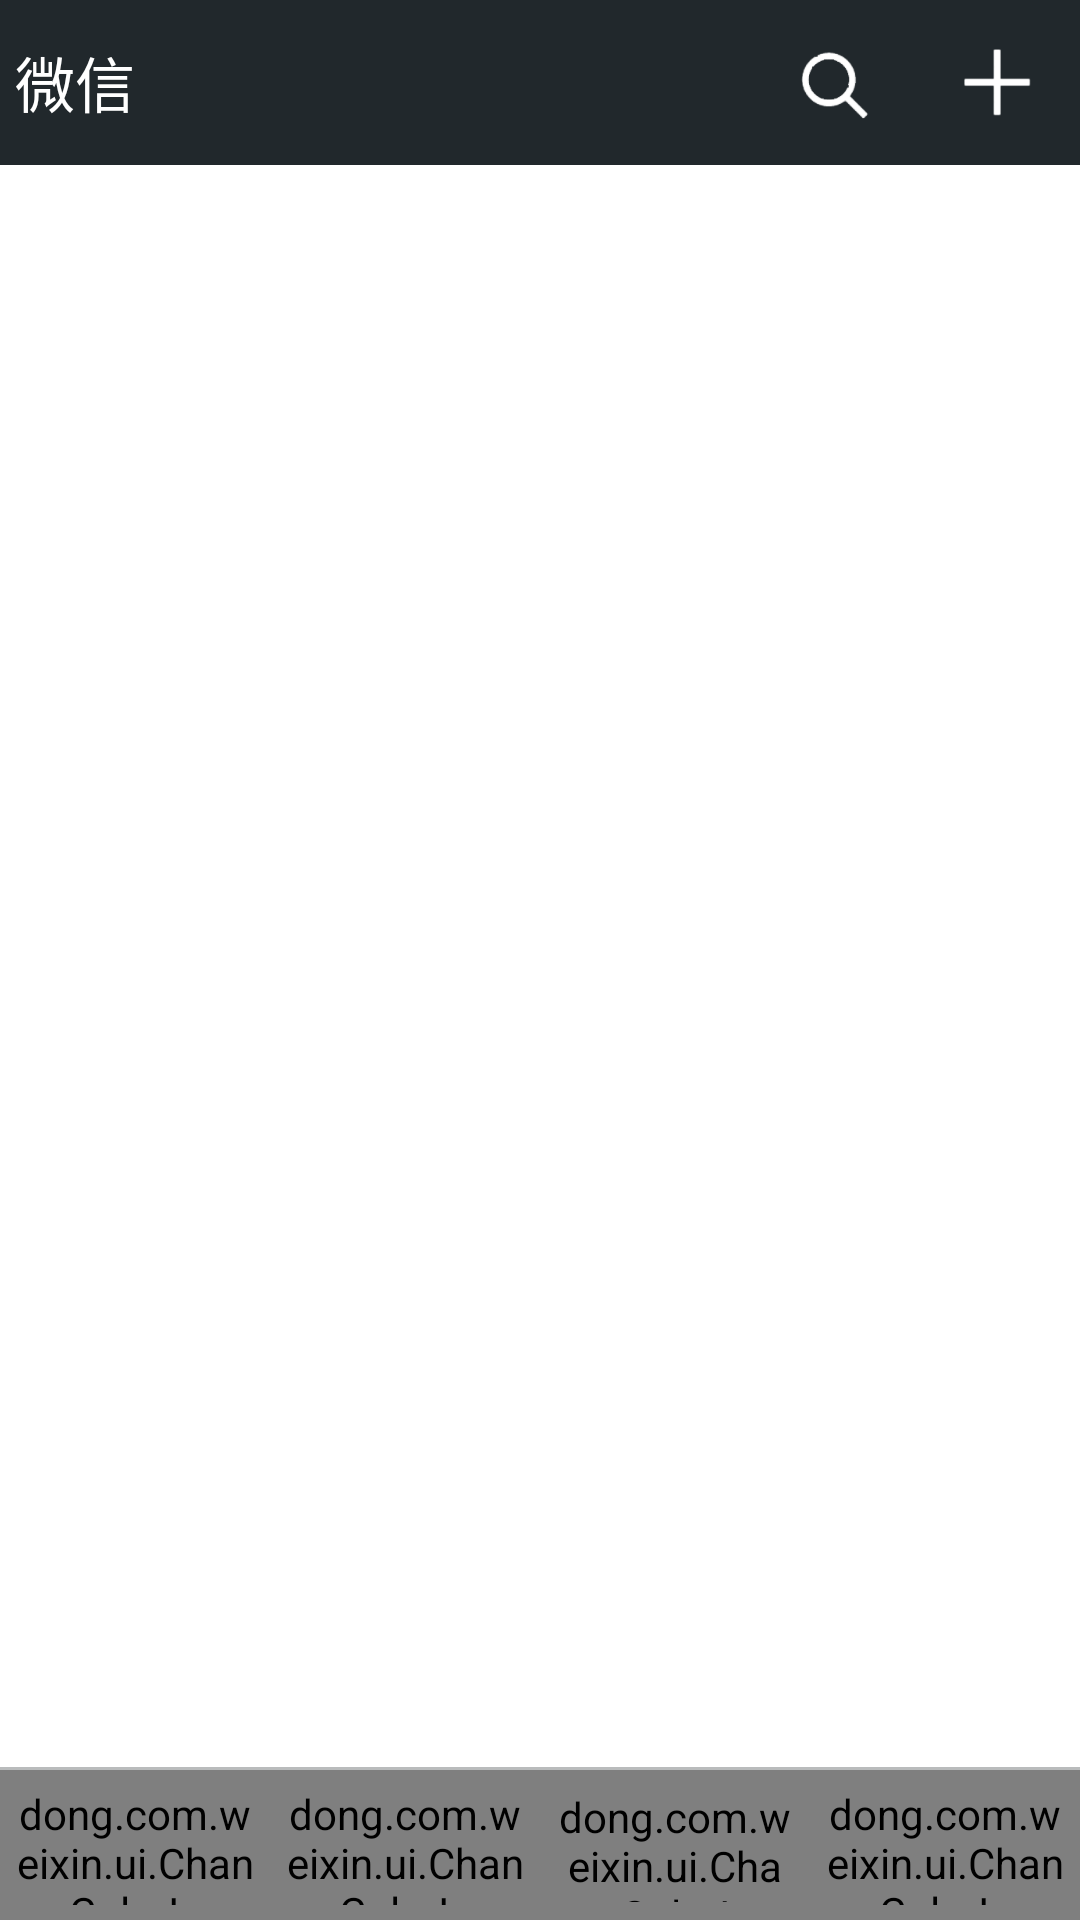

Icons on this 1080x1920 Android screen, each with its box as (x1, y1, x2, y2):
add: (964, 49, 1030, 116)
sousuo: (802, 52, 868, 118)
